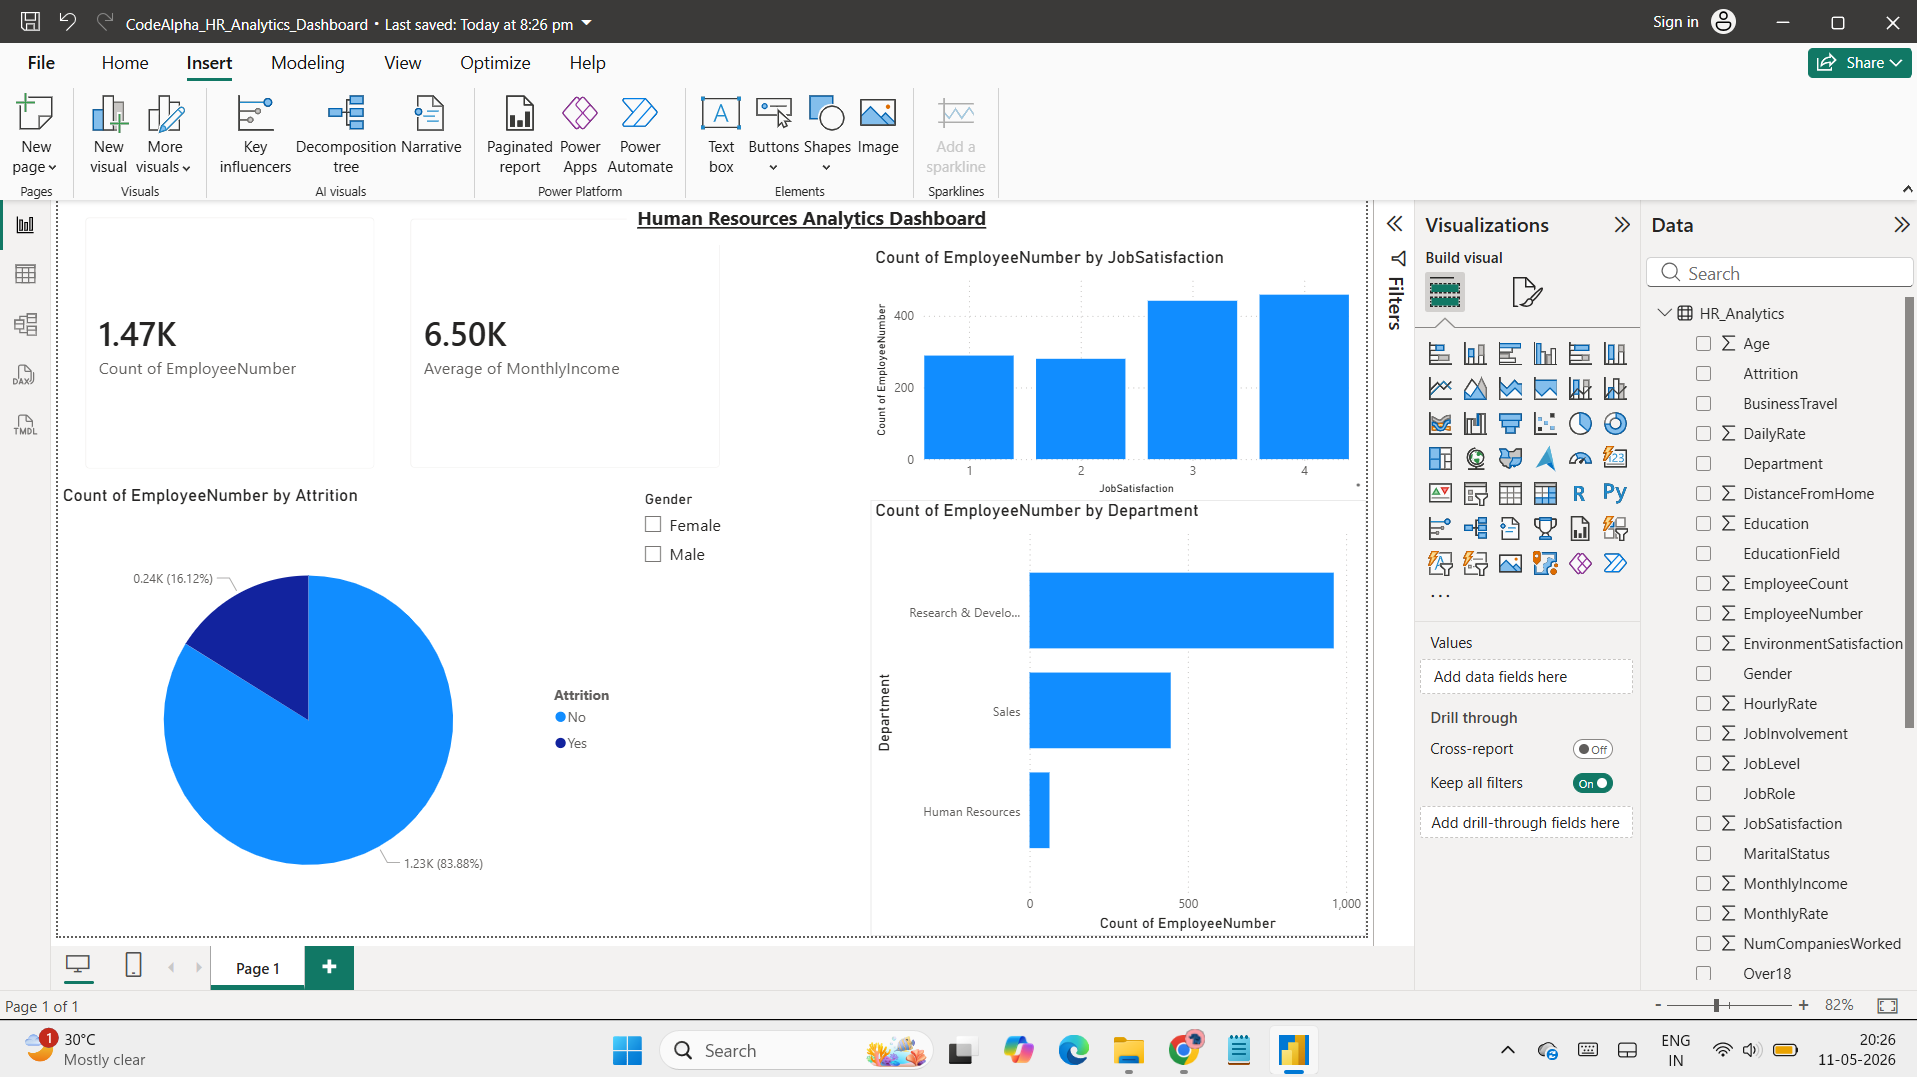

The dashboard page shown, as its layout file describes it:
{"tool":"powerbi","page":{"name":"Page 1","canvas":[1280,720],"ordinal":0},"visuals":[{"type":"cardVisual","fields":{"Data":["CountNonNull(HR_Analytics.EmployeeNumber)"]},"box":[9.8,0,317.9,280],"z":0},{"type":"cardVisual","fields":{"Data":["Avg(HR_Analytics.MonthlyIncome)"]},"box":[327.7,1.2,337.5,278.8],"z":1000},{"type":"pieChart","fields":{"Category":["HR_Analytics.Attrition"],"Y":["CountNonNull(HR_Analytics.EmployeeNumber)"]},"box":[0,278.8,561.3,441.4],"z":2000},{"type":"clusteredBarChart","fields":{"Category":["HR_Analytics.Department"],"Y":["CountNonNull(HR_Analytics.EmployeeNumber)"]},"box":[794.8,293.5,485.5,426.8],"z":3000},{"type":"columnChart","fields":{"Category":["HR_Analytics.JobSatisfaction"],"Y":["CountNonNull(HR_Analytics.EmployeeNumber)"]},"box":[794.8,45.2,473.2,248.2],"z":4000},{"type":"slicer","fields":{"Values":["HR_Analytics.Gender"]},"box":[561.3,278.8,216.4,441.4],"z":5000},{"type":"textbox","box":[556.4,0,362,44],"z":6000}]}

Visuals, with their boxes on the page's 1280x720 design canvas (x1, y1, x2, y2). These are canvas units, not pixel positions in the 1917x1077 screenshot, which may show the page scaled, cropped or inside an application window:
cardVisual - CountNonNull(HR_Analytics.EmployeeNumber): [10, 0, 328, 280]
cardVisual - Avg(HR_Analytics.MonthlyIncome): [328, 1, 665, 280]
pieChart - HR_Analytics.Attrition x CountNonNull(HR_Analytics.EmployeeNumber): [0, 279, 561, 720]
clusteredBarChart - HR_Analytics.Department x CountNonNull(HR_Analytics.EmployeeNumber): [795, 294, 1280, 720]
columnChart - HR_Analytics.JobSatisfaction x CountNonNull(HR_Analytics.EmployeeNumber): [795, 45, 1268, 293]
slicer - HR_Analytics.Gender: [561, 279, 778, 720]
textbox: [556, 0, 918, 44]
